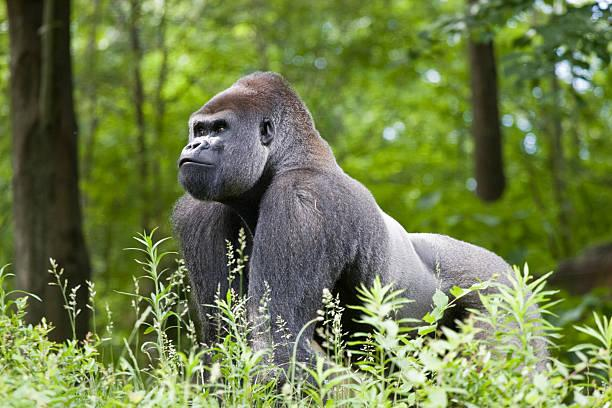gorille_Autres: (156, 42, 566, 404)
